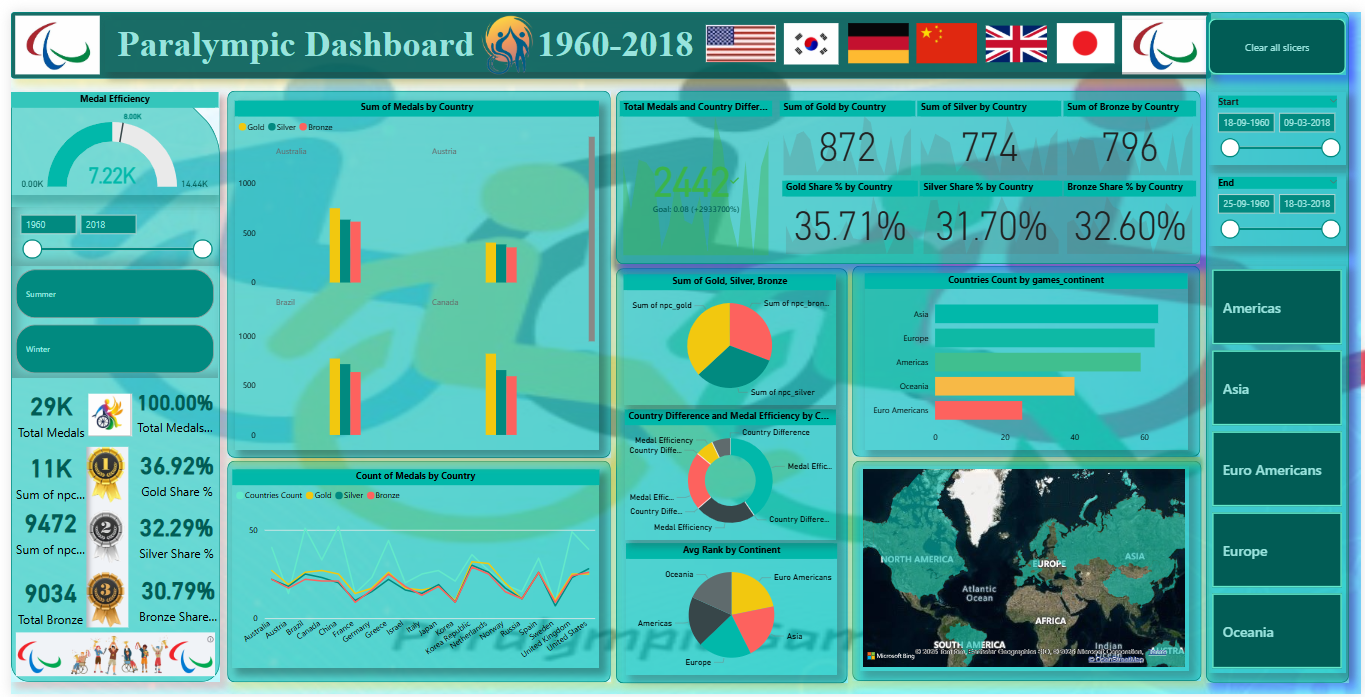

The dashboard page shown, as its layout file describes it:
{"tool":"powerbi","page":{"name":"Dashboard","canvas":[1800,910],"ordinal":0},"visuals":[{"type":"shape","box":[0,0,1600,89],"z":0},{"type":"image","box":[0,0,123.3,88.3],"z":1000},{"type":"image","box":[1475,0,125,88.3],"z":2000},{"type":"textbox","box":[125,10,1475,70],"z":3000},{"type":"shape","box":[0,106.7,278.3,786.7],"z":4000},{"type":"advancedSlicerVisual","fields":{"Values":["Sheet1.games_season"]},"box":[1.5,338.9,274.5,149.3],"z":5000},{"type":"image","box":[600,0,123.3,88.3],"z":6000},{"type":"slicer","fields":{"Values":["Sheet1.games_year"]},"box":[0,259.8,276.7,79.3],"z":7000},{"type":"card","fields":{"Values":["DAX Function.Total Medals"]},"box":[3,491.3,101,84.5],"z":8000},{"type":"card","fields":{"Values":["Sum(Sheet1.Total Medals)"]},"box":[161.4,488.2,114.6,82.9],"z":9000},{"type":"card","fields":{"Values":["DAX Function.Silver Share %"]},"box":[164.4,655.6,111.6,82.9],"z":10000},{"type":"card","fields":{"Values":["Sum(Sheet1.npc_gold)"]},"box":[1.5,575.7,102.5,82.9],"z":11000},{"type":"card","fields":{"Values":["DAX Function.Gold Share %"]},"box":[164.4,571.2,113.1,84.5],"z":12000},{"type":"card","fields":{"Values":["Sum(Sheet1.npc_silver)"]},"box":[1.5,648.1,102.5,82.9],"z":13000},{"type":"card","fields":{"Values":["Sum(Sheet1.npc_bronze)"]},"box":[1.5,741.6,102.5,82.9],"z":14000},{"type":"card","fields":{"Values":["DAX Function.Bronze Share %"]},"box":[164.4,738.6,116.1,82.9],"z":15000},{"type":"gauge","fields":{"Y":["DAX Function.Medal Efficiency"]},"box":[0,106.7,276.7,136.7],"z":16000},{"type":"image","box":[1.7,820,275,73.3],"z":17000},{"type":"image","box":[92,574.2,73.9,250.3],"z":18000},{"type":"image","box":[98,503.3,67.9,67.9],"z":19000},{"type":"shape","box":[288.5,599,511.3,295.3],"z":20000},{"type":"lineChart","title":"Count of Medals by Country","fields":{"Y":["DAX Function.Countries Count","Count(Sheet1.npc_gold)","Count(Sheet1.npc_silver)","Count(Sheet1.npc_bronze)"],"Category":["Sheet1.games_country","Sheet1.games_year"]},"box":[295.3,610.8,489.3,264.9],"z":21000},{"type":"shape","box":[1122.1,599,465.7,293.6],"z":22000},{"type":"filledMap","fields":{"Category":["Sheet1.games_country"]},"box":[1132.2,605.7,438.7,273.3],"z":23000},{"type":"shape","box":[806.5,340.8,308.8,553.4],"z":24000},{"type":"pieChart","fields":{"Y":["DAX Function.Avg Rank"],"Category":["Sheet1.games_continent"]},"box":[820,708.7,281.8,175.5],"z":25000},{"type":"donutChart","title":"Country Difference and Medal Efficiency by Continent","fields":{"Y":["DAX Function.Country Contribution %","DAX Function.Medal Efficiency"],"Category":["Sheet1.games_continent"]},"box":[818.3,529.8,281.8,173.8],"z":26000},{"type":"pieChart","title":"Sum of Gold, Silver, Bronze ","fields":{"Y":["Sum(Sheet1.npc_bronze)","Sum(Sheet1.npc_silver)","Sum(Sheet1.npc_gold)"]},"box":[816.7,349.3,283.5,173.8],"z":27000},{"type":"shape","box":[1122.1,339.1,464,254.8],"z":28000},{"type":"clusteredBarChart","title":"Countries Count by games_continent","fields":{"Y":["DAX Function.Countries Count"],"Category":["Sheet1.games_continent"]},"box":[1138.9,347.6,430.3,236.2],"z":29000},{"type":"shape","box":[288.5,104.6,511.3,489.3],"z":30000},{"type":"clusteredColumnChart","title":"Sum of Medals by Country","fields":{"Rows":["Sheet1.games_country"],"Y":["Sum(Sheet1.npc_gold)","Sum(Sheet1.npc_silver)","Sum(Sheet1.npc_bronze)"]},"box":[298.7,118.1,485.9,465.7],"z":31000},{"type":"shape","box":[806.5,104.6,779.5,231.2],"z":32000},{"type":"kpi","fields":{"Indicator":["DAX Function.Total Medals"],"Goal":["DAX Function.Country Difference"],"TrendLine":["Sheet1.games_country"]},"box":[811,118.4,203.6,211.1],"z":33000},{"type":"kpi","title":"Sum of Gold by Country","fields":{"Indicator":["Sum(Sheet1.npc_gold)"],"TrendLine":["Sheet1.games_country"]},"box":[1024.2,118.1,180.5,104.6],"z":34000},{"type":"kpi","title":"Sum of Silver by Country","fields":{"Indicator":["Sum(Sheet1.npc_silver)"],"TrendLine":["Sheet1.games_country"]},"box":[1208.1,118.1,192.4,104.6],"z":35000},{"type":"kpi","title":"Gold Share % by Country","fields":{"Indicator":["DAX Function.Gold Share %"],"TrendLine":["Sheet1.games_country"]},"box":[1027.6,224.4,180.5,102.9],"z":36000},{"type":"kpi","title":"Silver Share % by Country","fields":{"Indicator":["DAX Function.Silver Share %"],"TrendLine":["Sheet1.games_country"]},"box":[1211.5,224.4,190.7,102.9],"z":37000},{"type":"kpi","title":"Bronze Share % by Country","fields":{"Indicator":["DAX Function.Bronze Share %"],"TrendLine":["Sheet1.games_country"]},"box":[1403.8,224.4,177.2,102.9],"z":38000},{"type":"kpi","title":"Sum of Bronze by Country","fields":{"Indicator":["Sum(Sheet1.npc_bronze)"],"TrendLine":["Sheet1.games_country"]},"box":[1403.8,118.1,177.2,104.6],"z":39000},{"type":"image","box":[921.7,10,103.3,63.3],"z":40000},{"type":"image","box":[1105,10,103.3,63.3],"z":41000},{"type":"image","box":[1200,10,95,63.3],"z":42000},{"type":"image","box":[1293.3,13.3,95,58.3],"z":43000},{"type":"image","box":[1381.7,10,101.7,63.3],"z":44000},{"type":"image","box":[1023.3,10,86.7,65],"z":45000},{"type":"shape","box":[1592.8,0,190.7,894.3],"z":46000},{"type":"advancedSlicerVisual","fields":{"Values":["Sheet1.games_continent"]},"box":[1596.2,339.1,183.9,543.3],"z":47000},{"type":"slicer","fields":{"Values":["Sheet1.games_start"]},"box":[1596.2,106.3,183.9,97.9],"z":48000},{"type":"slicer","fields":{"Values":["Sheet1.games_end"]},"box":[1596.2,214.3,183.9,97.9],"z":49000},{"type":"actionButton","box":[1596.7,8.3,183.3,75],"z":50000}]}

Visuals, with their boxes in screenshot pixels (x1, y1, x2, y2), scaled from the page's 1800x910 canvas onto the 1365x697 screenshot:
shape: 0 0 1213 68
image: 0 0 94 68
image: 1119 0 1213 68
textbox: 95 8 1213 61
shape: 0 82 211 684
advancedSlicerVisual - Sheet1.games_season: 1 260 209 374
image: 455 0 549 68
slicer - Sheet1.games_year: 0 199 210 260
card - DAX Function.Total Medals: 2 376 79 441
card - Sum(Sheet1.Total Medals): 122 374 209 437
card - DAX Function.Silver Share %: 125 502 209 566
card - Sum(Sheet1.npc_gold): 1 441 79 504
card - DAX Function.Gold Share %: 125 438 210 502
card - Sum(Sheet1.npc_silver): 1 496 79 560
card - Sum(Sheet1.npc_bronze): 1 568 79 632
card - DAX Function.Bronze Share %: 125 566 213 629
gauge - DAX Function.Medal Efficiency: 0 82 210 186
image: 1 628 210 684
image: 70 440 126 632
image: 74 385 126 438
shape: 219 459 607 685
"Count of Medals by Country" lineChart: 224 468 595 671
shape: 851 459 1204 684
filledMap - Sheet1.games_country: 859 464 1191 673
shape: 612 261 846 685
pieChart - DAX Function.Avg Rank x Sheet1.games_continent: 622 543 836 677
"Country Difference and Medal Efficiency by Continent" donutChart: 621 406 834 539
"Sum of Gold, Silver, Bronze " pieChart: 619 268 834 401
shape: 851 260 1203 455
"Countries Count by games_continent" clusteredBarChart: 864 266 1190 447
shape: 219 80 607 455
"Sum of Medals by Country" clusteredColumnChart: 227 90 595 447
shape: 612 80 1203 257
kpi - DAX Function.Total Medals x DAX Function.Country Difference: 615 91 769 252
"Sum of Gold by Country" kpi: 777 90 914 171
"Sum of Silver by Country" kpi: 916 90 1062 171
"Gold Share % by Country" kpi: 779 172 916 251
"Silver Share % by Country" kpi: 919 172 1063 251
"Bronze Share % by Country" kpi: 1065 172 1199 251
"Sum of Bronze by Country" kpi: 1065 90 1199 171
image: 699 8 777 56
image: 838 8 916 56
image: 910 8 982 56
image: 981 10 1053 55
image: 1048 8 1125 56
image: 776 8 842 57
shape: 1208 0 1352 685
advancedSlicerVisual - Sheet1.games_continent: 1210 260 1350 676
slicer - Sheet1.games_start: 1210 81 1350 156
slicer - Sheet1.games_end: 1210 164 1350 239
actionButton: 1211 6 1350 64
